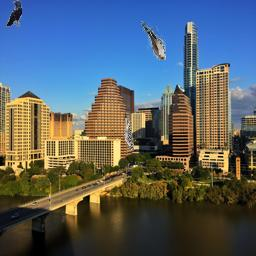Crow: (6, 0, 22, 27)
Cuckoo: (141, 21, 166, 60)
Woodpecker: (124, 111, 134, 151)
